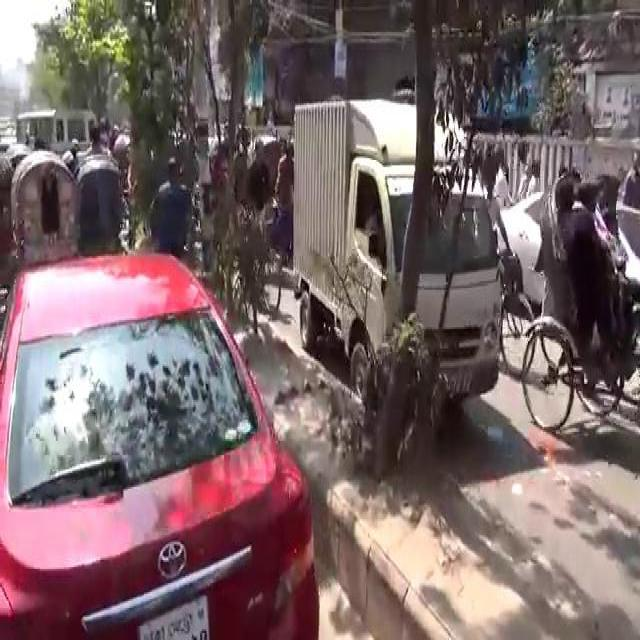vehicle: (1, 248, 324, 639), (291, 94, 507, 402), (520, 168, 640, 435), (11, 144, 84, 263), (248, 128, 294, 290), (496, 186, 546, 310), (76, 151, 125, 256), (11, 105, 97, 146)
